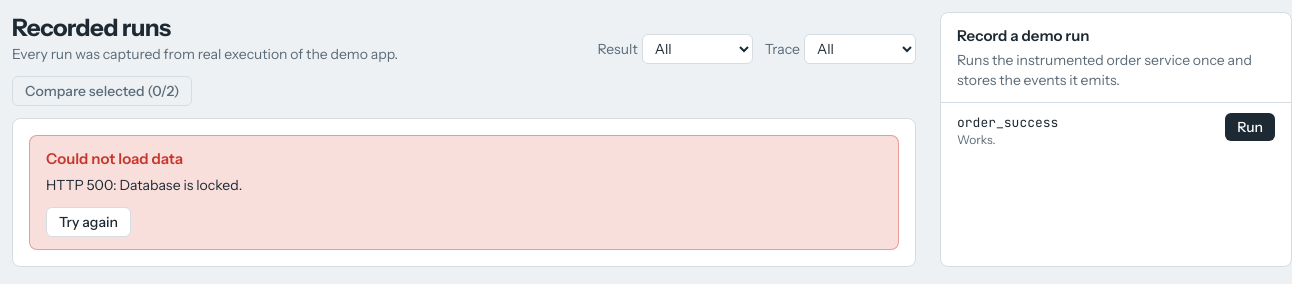
Scenario: RunsPage › shows the backend error and can retry
The width and height of the screenshot is (1292, 284).
Expected: the text "HTTP 500: Database is locked." is shown, [46,176,242,194]
Click the button "Try again": click(88, 222) [46,206,131,236]
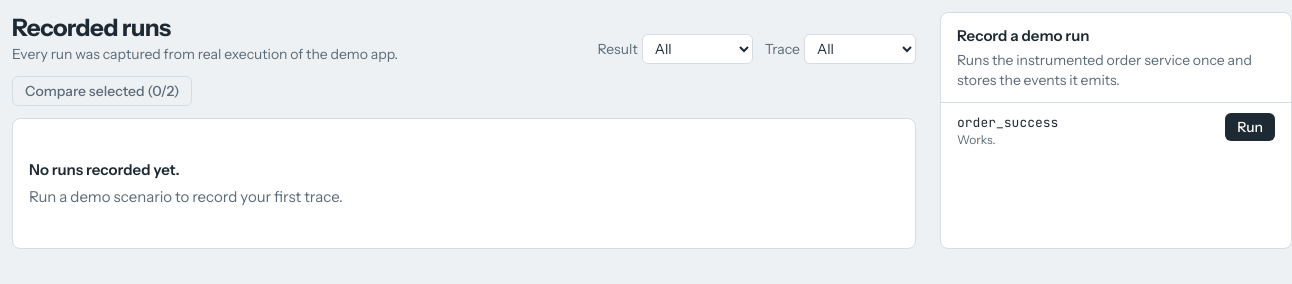
Expected: the text "No runs recorded yet." is shown, [29,160,180,179]
